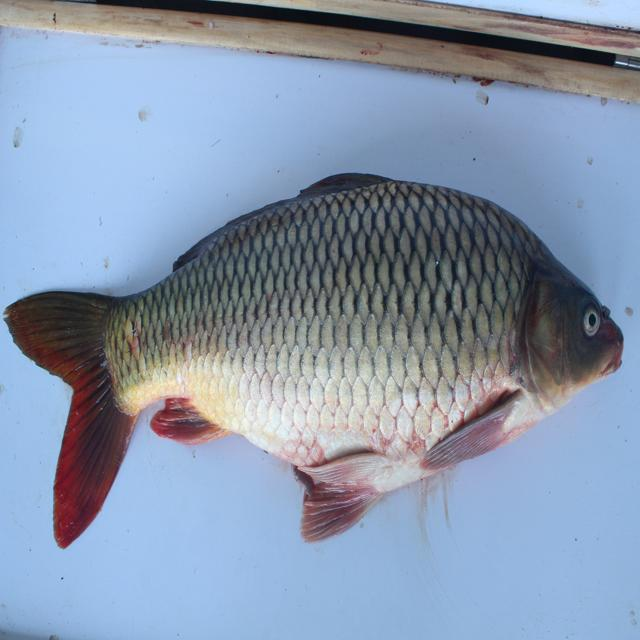CommonCarp: (6, 159, 634, 555)
